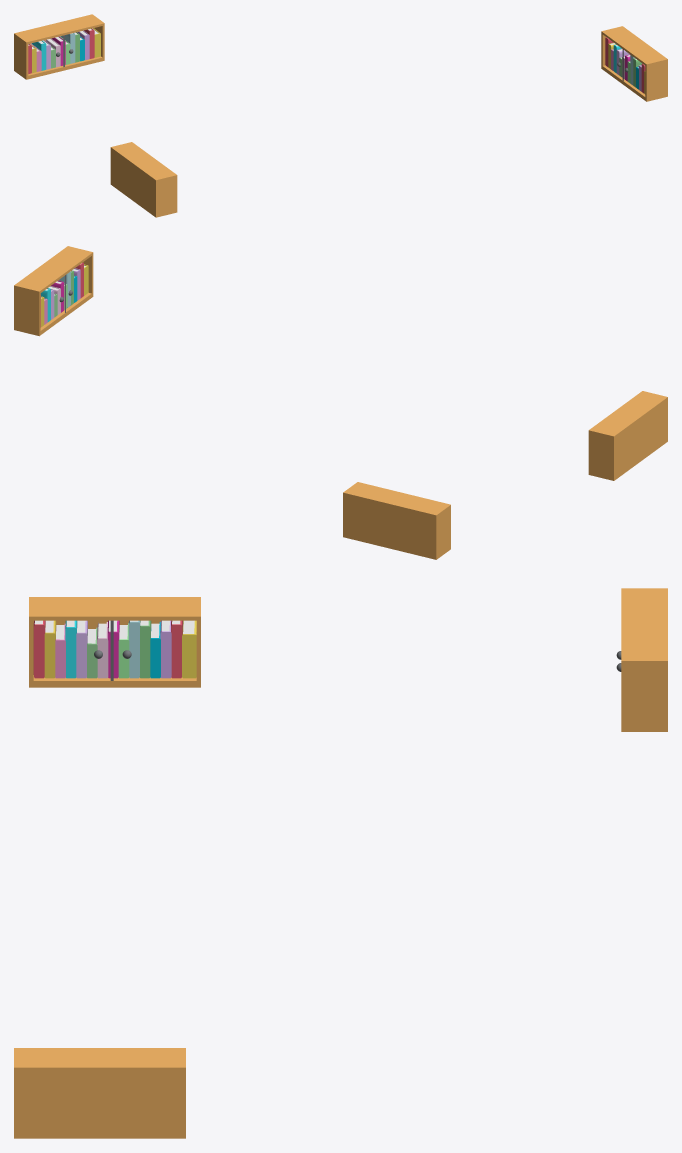
File: bookcase.fbx
3 views of the same model, one above another, from view 1: azimuth 30°, elevation 25°; view 2: azimuth 150°, elevation 25°; view 3: azimuth 270°, elevation 25° (orthographic). The views are drawn at different scales.
Visible parts, largest first — view 1: obj_0, obj_0.001, obj_0.002; view 2: obj_0, obj_0.001, obj_0.002; view 3: obj_0.001, obj_0.002, obj_0.
Part boxes in pixels (box(x1,y1,x2,y2)): obj_0: box(14, 14, 104, 79); obj_0.001: box(110, 142, 177, 217); obj_0.002: box(601, 26, 667, 101); obj_0: box(343, 482, 450, 559); obj_0.001: box(588, 391, 667, 480); obj_0.002: box(14, 246, 93, 336); obj_0.001: box(29, 597, 200, 687); obj_0.002: box(14, 1048, 185, 1138); obj_0: box(616, 588, 667, 731).
Bounding box in the file's own units: 934 × 96.27 × 549.
